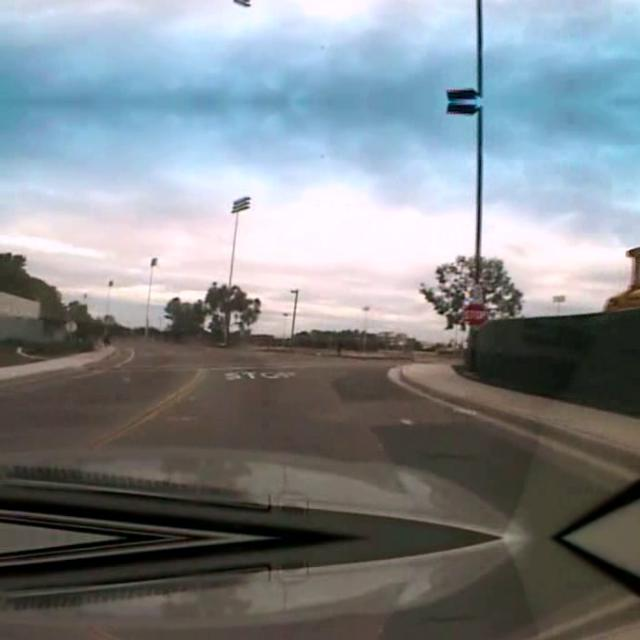stop: (460, 300, 490, 326)
